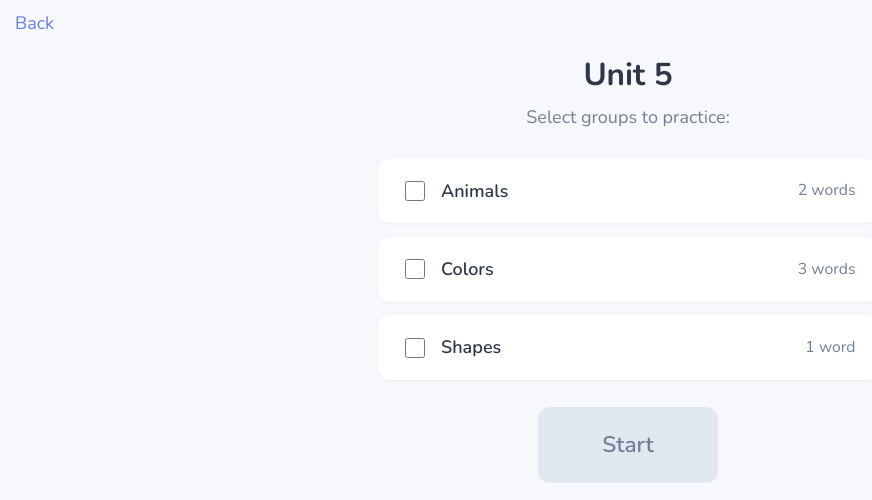
Scenario: GroupSelector › selecting a group enables the Start button
Click the checkbox labelled "Animals 2 words" at (414, 191), box x1=404 y1=181 x2=424 y2=201
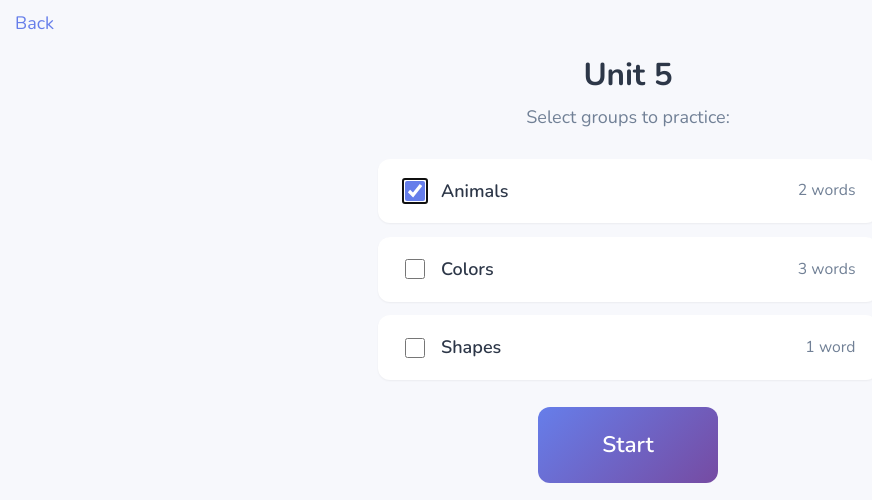
Expected: the button "Start" is enabled, x1=538 y1=407 x2=718 y2=483
